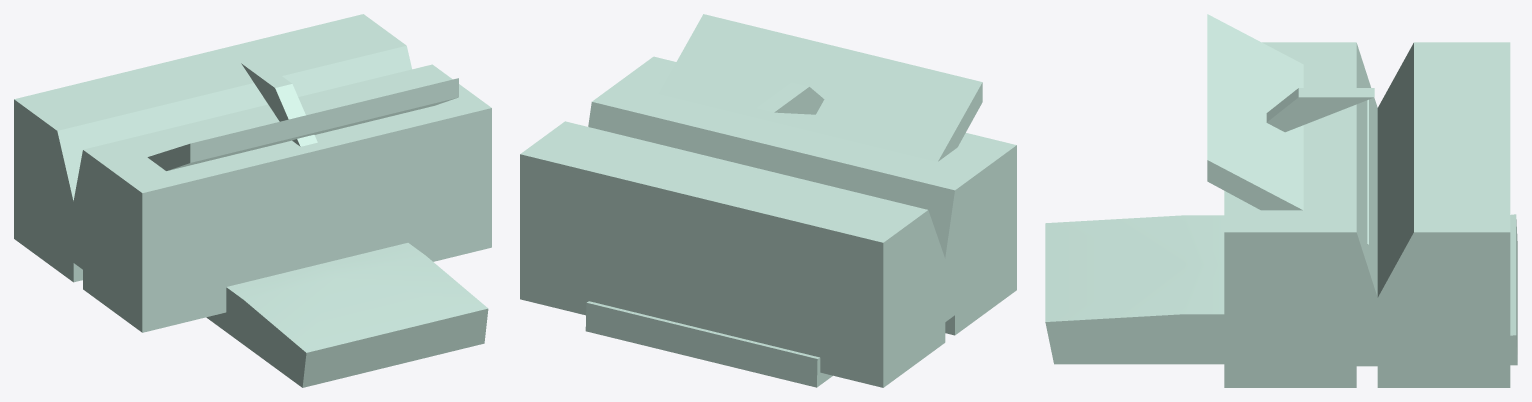
The picture shows the model from 3 angles, left to right: view 1: azimuth 30°, elevation 25°; view 2: azimuth 150°, elevation 25°; view 3: azimuth 270°, elevation 25°; orthographic projection. The views are drawn at different scales.
Parts seen in each view (by area): view 1: Renderer Node; view 2: Renderer Node; view 3: Renderer Node.
Boxes of the visible parts, left/top/right/bottom form: Renderer Node: left=14, top=14, right=491, bottom=387; Renderer Node: left=520, top=14, right=1016, bottom=387; Renderer Node: left=1045, top=14, right=1517, bottom=387.
Size of the model in its own units: 1.89 by 1.06 by 1.99.
